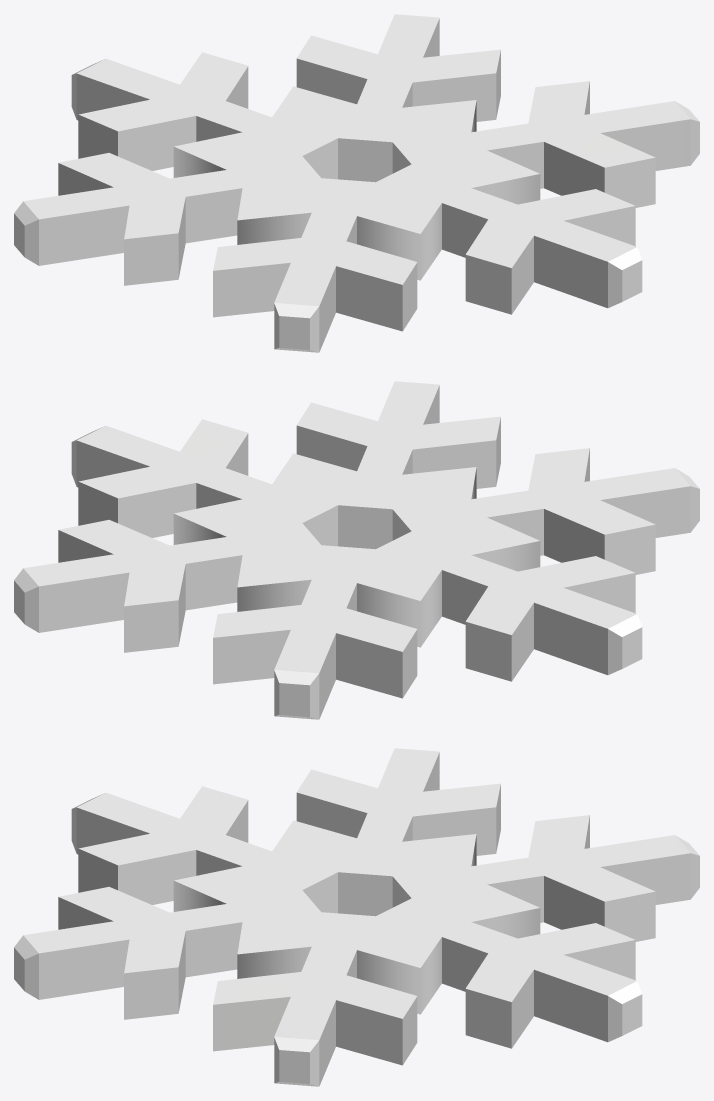
Rendered from Snow Flake_Model.FBX.
The picture shows the model from 3 angles, top to bottom: view 1: azimuth 30°, elevation 25°; view 2: azimuth 150°, elevation 25°; view 3: azimuth 270°, elevation 25°; orthographic projection.
Visible parts, largest first — view 1: snow flake; view 2: snow flake; view 3: snow flake.
Part boxes in pixels (left/top/right/bottom): snow flake: left=14, top=14, right=699, bottom=352; snow flake: left=14, top=381, right=699, bottom=719; snow flake: left=14, top=748, right=699, bottom=1086.
Size of the model in its own units: 56.79 by 4.1 by 54.63.
Materials: 1 (1 with a texture image).
